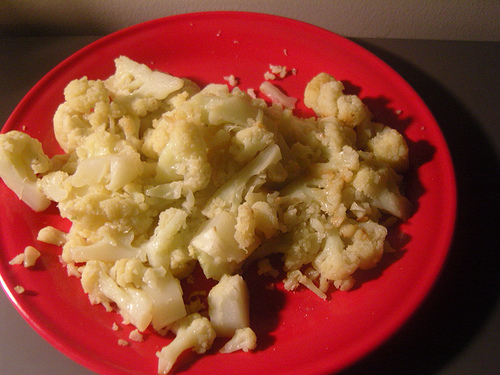cauliflower: (1, 55, 413, 374)
